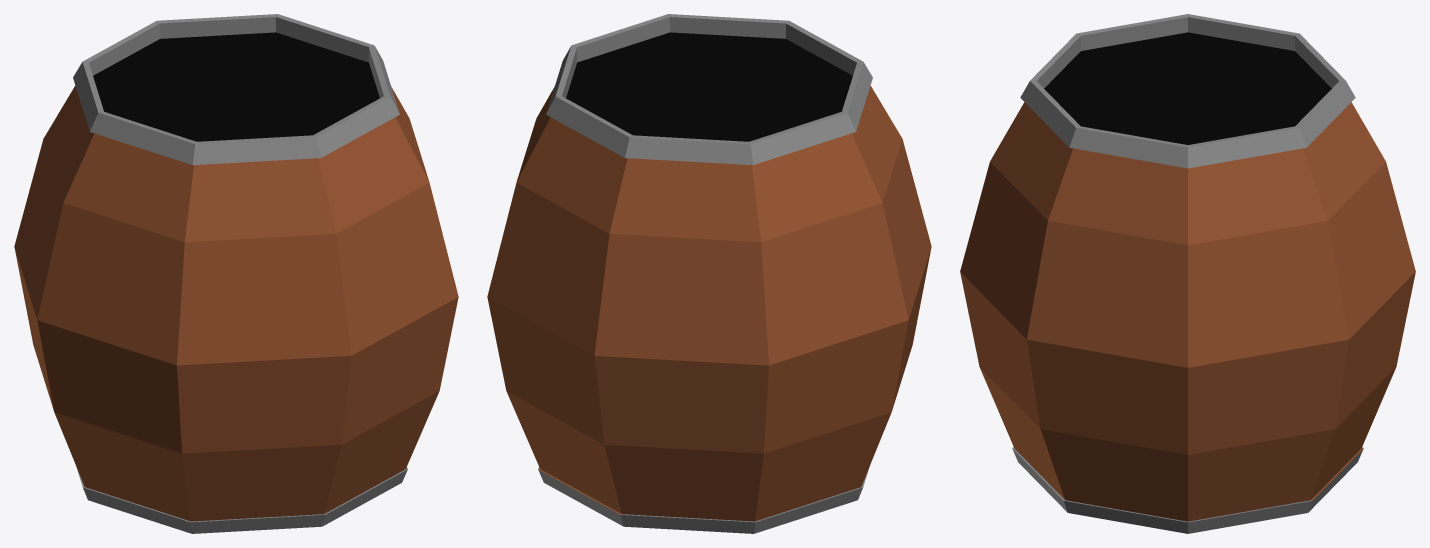
The model's file is Barrel.fbx.
3 views of the same model, side by side, from view 1: azimuth 30°, elevation 25°; view 2: azimuth 150°, elevation 25°; view 3: azimuth 270°, elevation 25° (orthographic).
Visible parts, largest first — view 1: Circle; view 2: Circle; view 3: Circle.
Boxes of the visible parts, x1=… form: Circle: x1=14, y1=14, x2=458, y2=533; Circle: x1=487, y1=14, x2=931, y2=533; Circle: x1=960, y1=14, x2=1415, y2=533.
Size of the model in its own units: 726 by 670 by 726.
